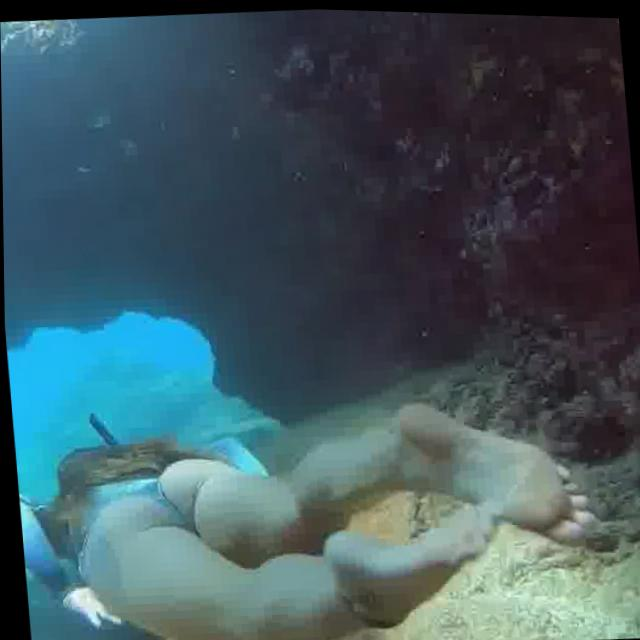human: (8, 350, 608, 640)
